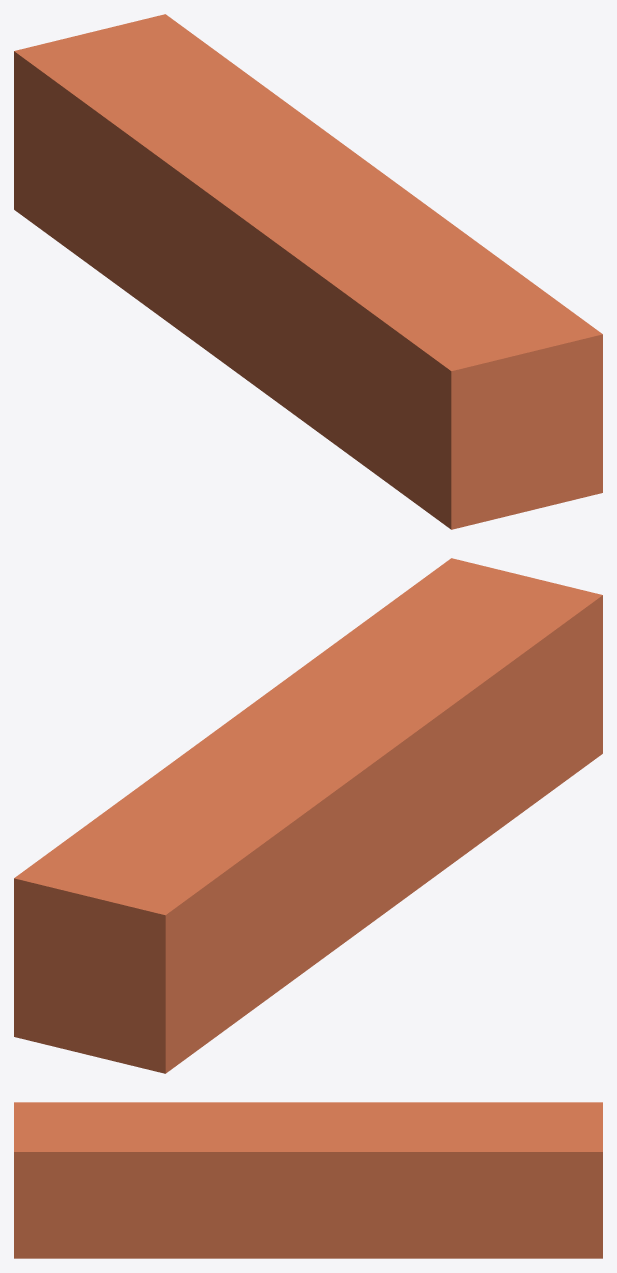
File: belt.dae
3 views of the same model, one above another, from view 1: azimuth 30°, elevation 25°; view 2: azimuth 150°, elevation 25°; view 3: azimuth 270°, elevation 25° (orthographic). The views are drawn at different scales.
Parts seen in each view (by area): view 1: Cube; view 2: Cube; view 3: Cube.
Part boxes in pixels (bbox=[...]): Cube: bbox=[14, 14, 602, 529]; Cube: bbox=[14, 558, 602, 1073]; Cube: bbox=[14, 1102, 602, 1258].
Size of the model in its own units: 0.2 by 1 by 0.2.
